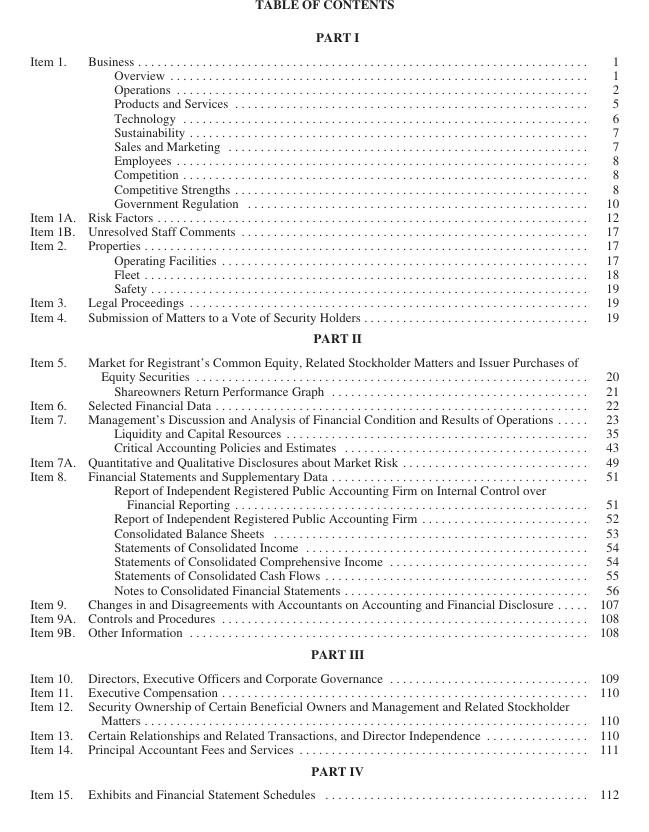table: (29, 29, 618, 801)
table column: (81, 29, 592, 801), (29, 29, 81, 801), (592, 29, 618, 801)
table column header: (29, 29, 618, 209)
table row: (29, 29, 618, 209), (29, 349, 618, 383), (29, 698, 618, 727), (29, 482, 618, 510), (29, 326, 618, 349), (29, 642, 618, 665), (29, 759, 618, 782), (29, 665, 618, 684), (29, 782, 618, 801), (29, 308, 618, 326), (29, 624, 618, 642), (29, 741, 618, 759), (29, 237, 618, 252), (29, 439, 618, 454), (29, 510, 618, 525), (29, 581, 618, 596), (29, 209, 618, 223), (29, 223, 618, 237), (29, 252, 618, 266), (29, 266, 618, 280), (29, 280, 618, 294), (29, 294, 618, 308), (29, 383, 618, 397), (29, 397, 618, 411), (29, 411, 618, 425), (29, 425, 618, 439), (29, 454, 618, 468), (29, 468, 618, 482), (29, 525, 618, 539), (29, 539, 618, 553), (29, 553, 618, 567), (29, 567, 618, 581), (29, 596, 618, 610), (29, 610, 618, 624), (29, 684, 618, 698), (29, 727, 618, 741)
table spanning cell: (29, 468, 81, 596), (29, 237, 81, 294), (29, 349, 81, 397), (29, 411, 81, 454), (29, 308, 81, 349), (29, 624, 81, 665), (29, 741, 81, 782)
